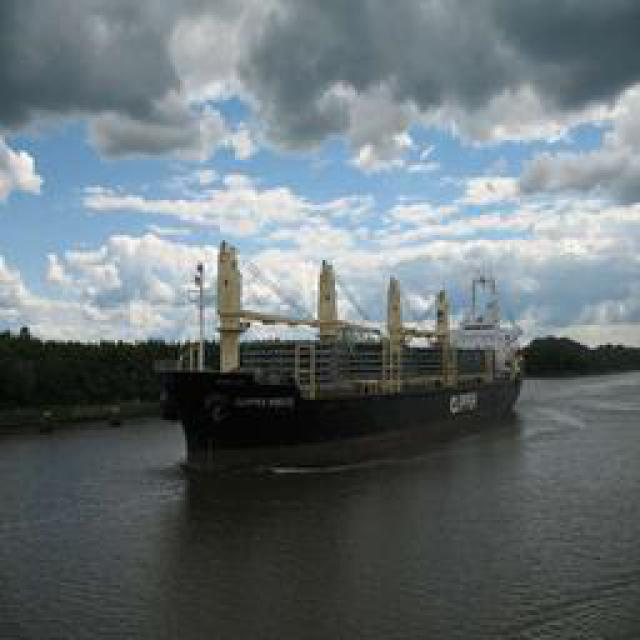Ship: (159, 315, 529, 485)
